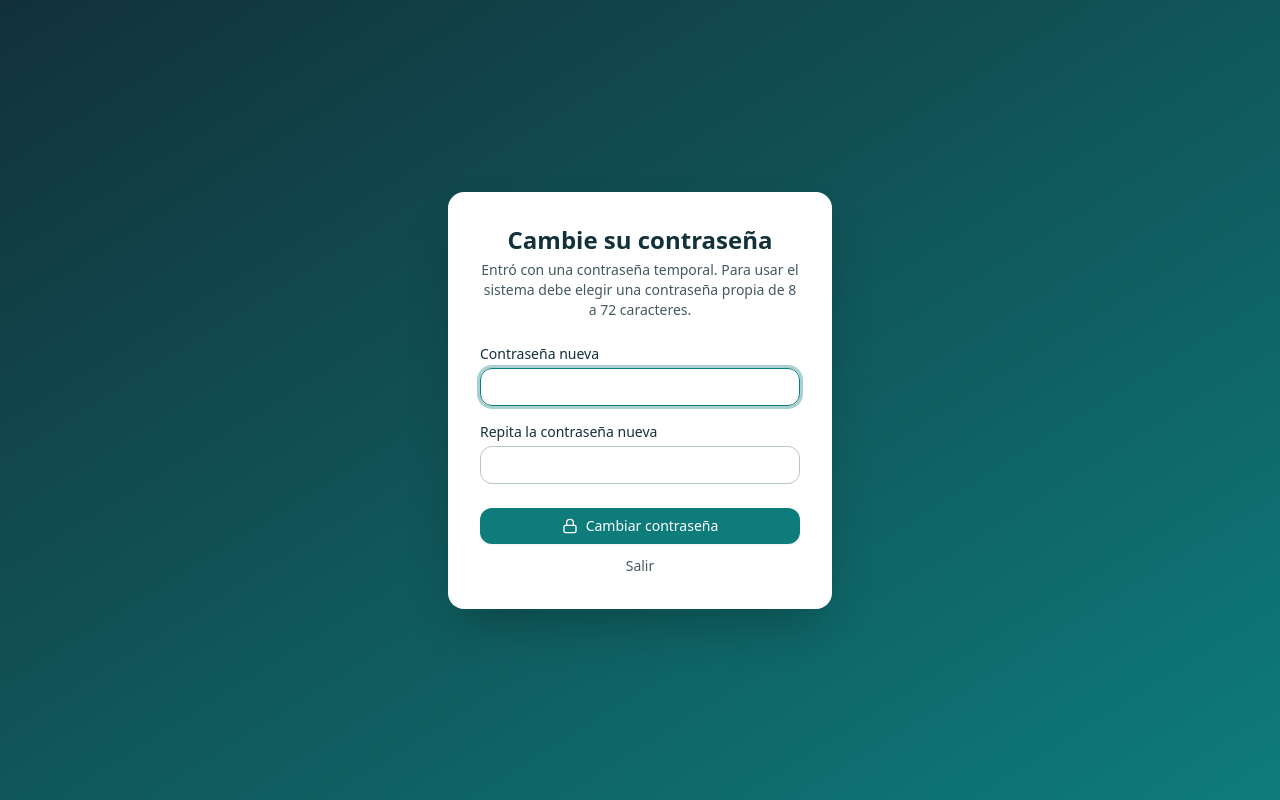
Test: pantalla de cambio de contraseña (HU-37) › si el servidor la rechaza (por ejemplo, es la temporal) lo muestra y se puede volver a intentar
In the password field labelled "Contraseña nueva": (640, 386) [480, 368, 800, 406], type "Valor-ficticio-1"
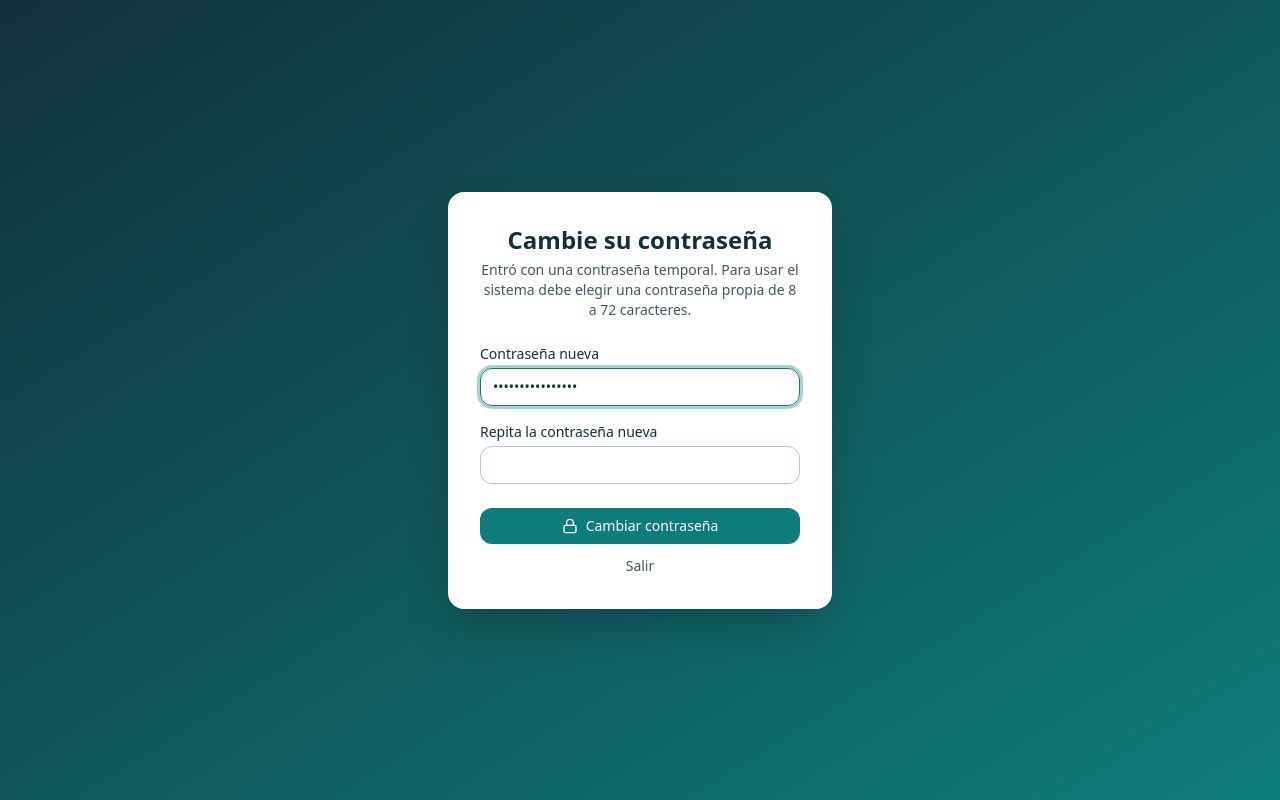
In the password field labelled "Repita la contraseña nueva": (640, 464) [480, 446, 800, 484], type "Valor-ficticio-1"
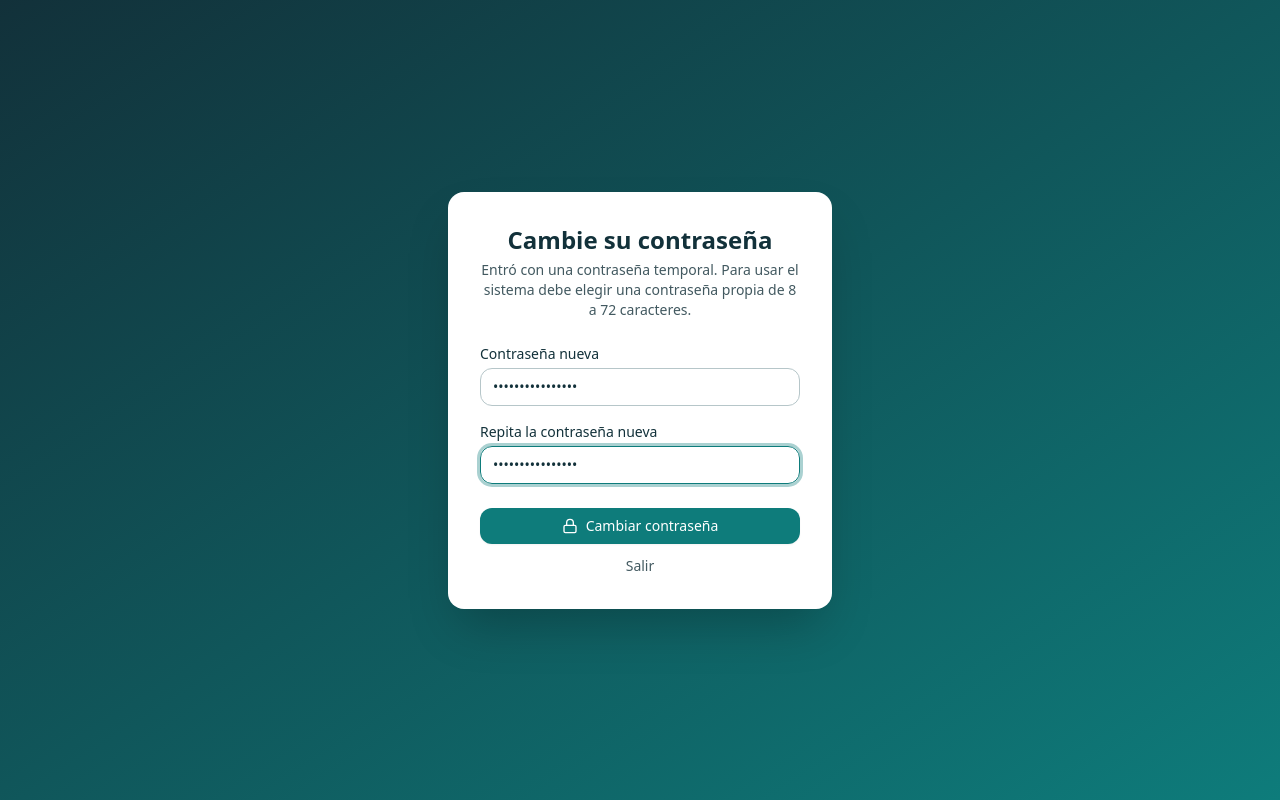
Click the button "Cambiar contraseña": (640, 526) [480, 508, 800, 544]
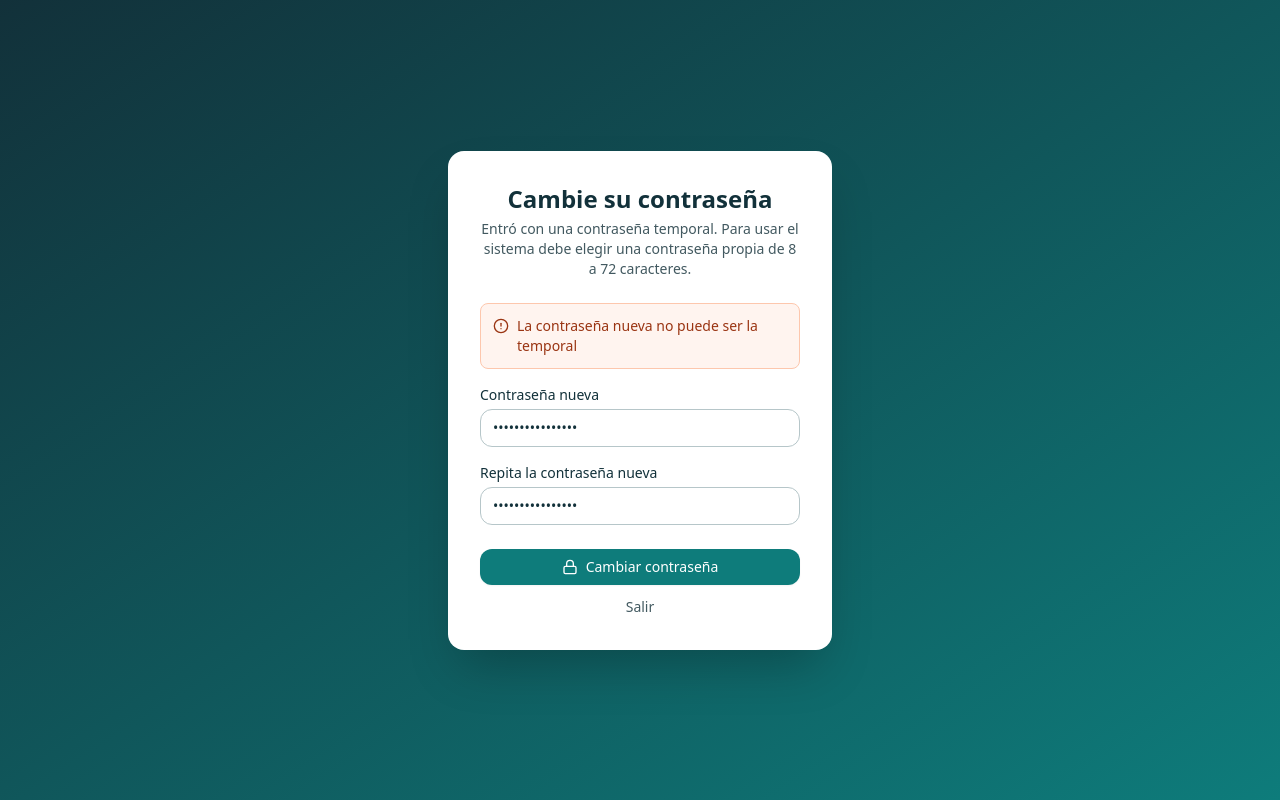
Check: the button "Cambiar contraseña" is enabled, box [480, 548, 800, 584]
Check: the message shows "no puede ser la temporal", box [517, 316, 758, 354]
